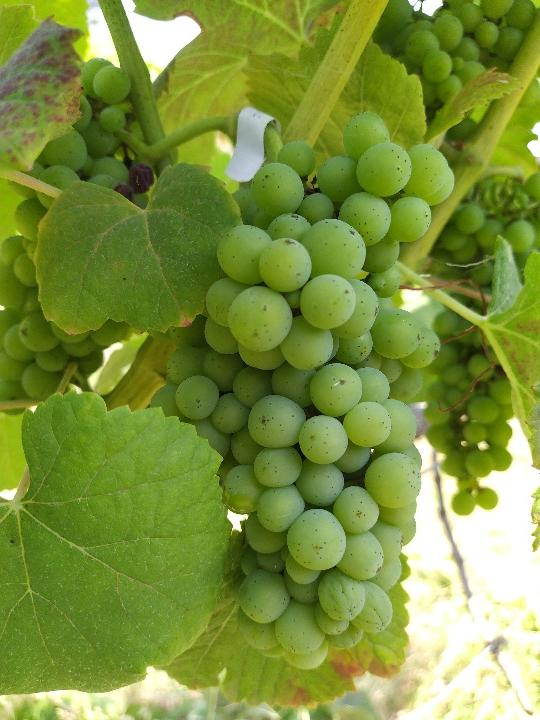grape: (150, 109, 455, 676)
